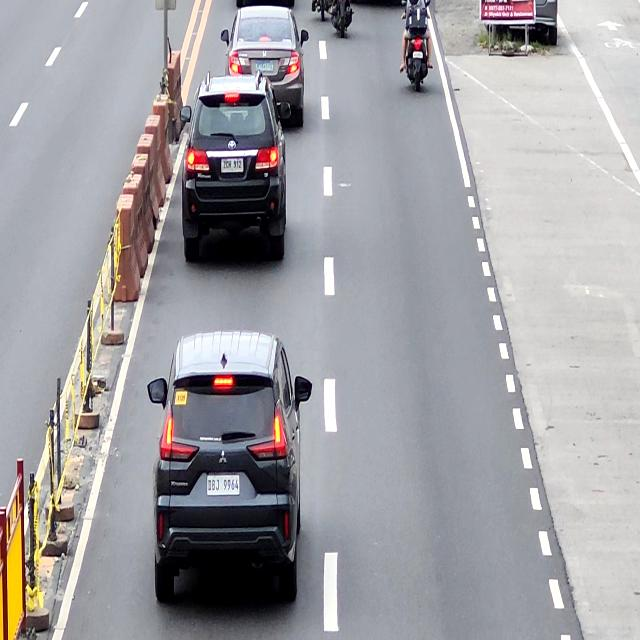Car: (146, 329, 312, 603), (180, 73, 290, 263), (220, 4, 311, 128)
License-Plate: (206, 476, 240, 495), (220, 157, 244, 174), (254, 62, 274, 74), (412, 52, 423, 58)
Motorcycle: (402, 0, 431, 87)
